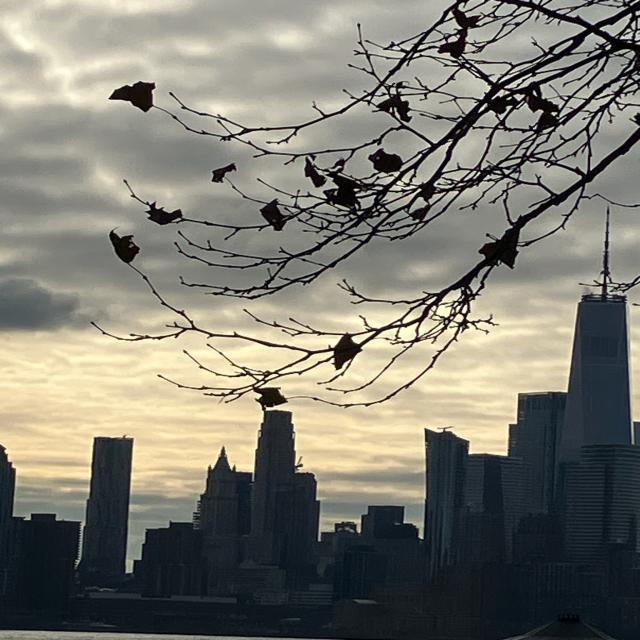WTC: (562, 208, 632, 449)
